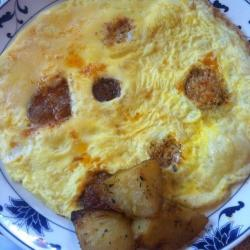omelette: (2, 3, 248, 215)
